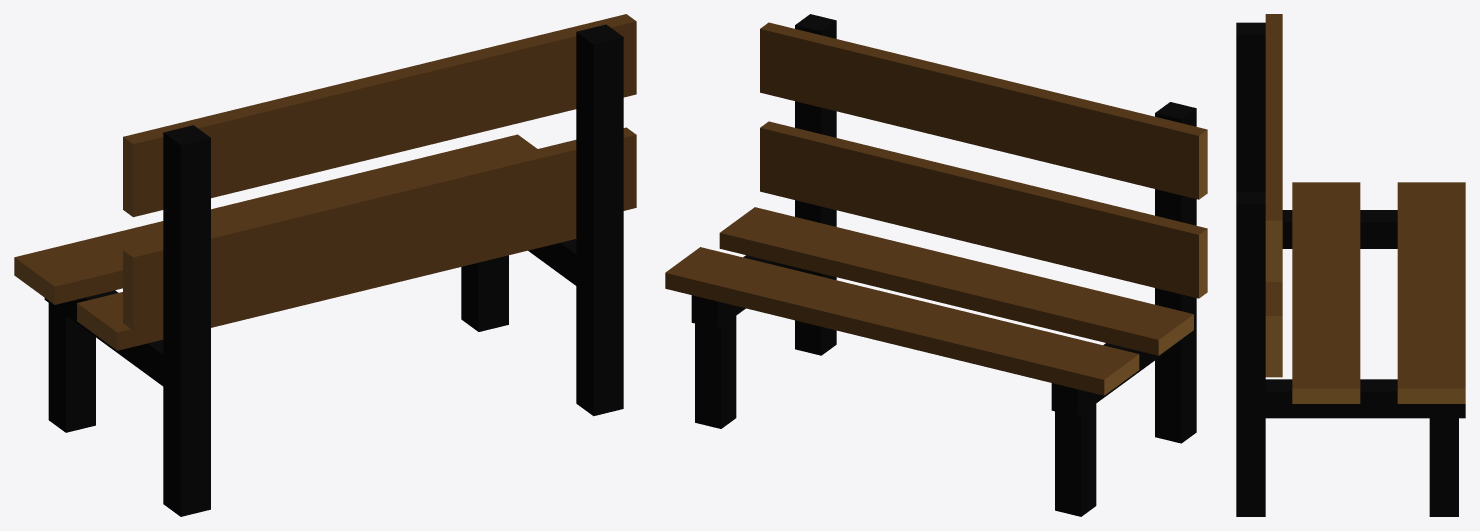
Rendered from CityBench.fbx.
The picture shows the model from 3 angles, left to right: view 1: azimuth 30°, elevation 25°; view 2: azimuth 150°, elevation 25°; view 3: azimuth 270°, elevation 25°; orthographic projection. The views are drawn at different scales.
Parts seen in each view (by area): view 1: CityBench; view 2: CityBench; view 3: CityBench.
Boxes of the visible parts, x1=… form: CityBench: x1=14, y1=14, x2=636, y2=516; CityBench: x1=665, y1=14, x2=1207, y2=516; CityBench: x1=1236, y1=14, x2=1465, y2=516.
Size of the model in its own units: 0.2093 by 0.1477 by 0.0981.
